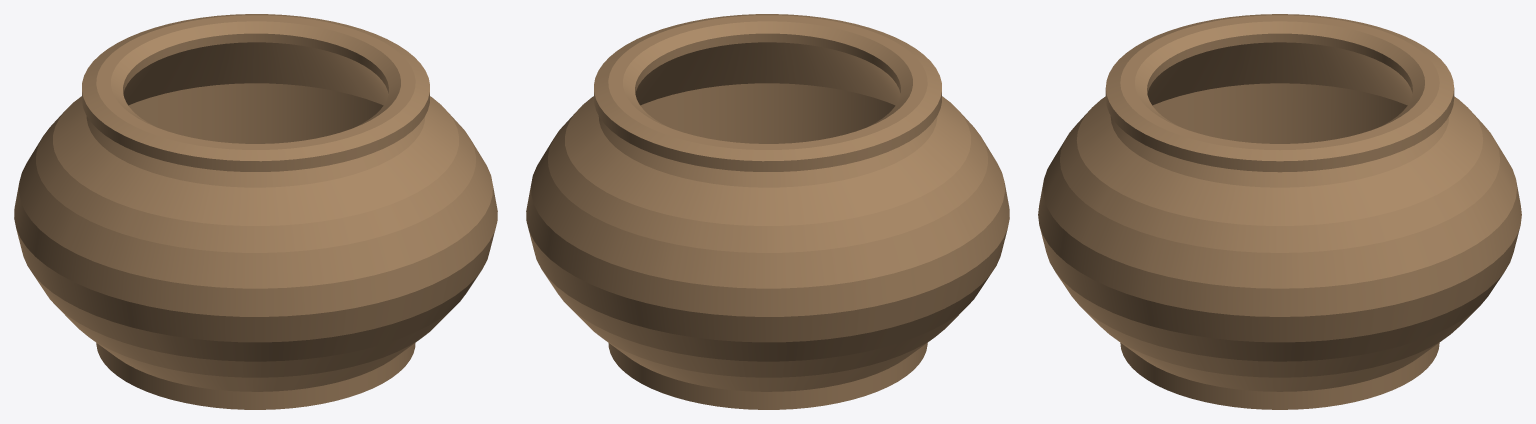
3 views of the same model, side by side, from view 1: azimuth 30°, elevation 25°; view 2: azimuth 150°, elevation 25°; view 3: azimuth 270°, elevation 25° (orthographic).
Visible parts, largest first — view 1: clay_vessel; view 2: clay_vessel; view 3: clay_vessel.
Part boxes in pixels (<box>): clay_vessel: <box>14,14,497,409</box>; clay_vessel: <box>526,14,1009,409</box>; clay_vessel: <box>1038,14,1521,409</box>.
Size of the model in its own units: 0.2 by 0.1185 by 0.2.
